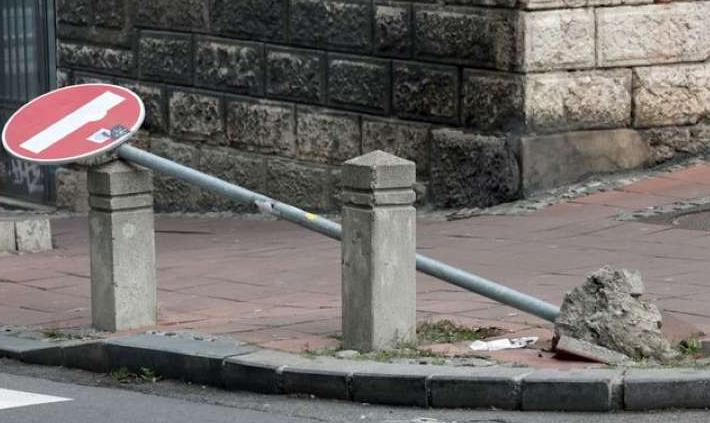road_sign: (2, 84, 146, 161)
